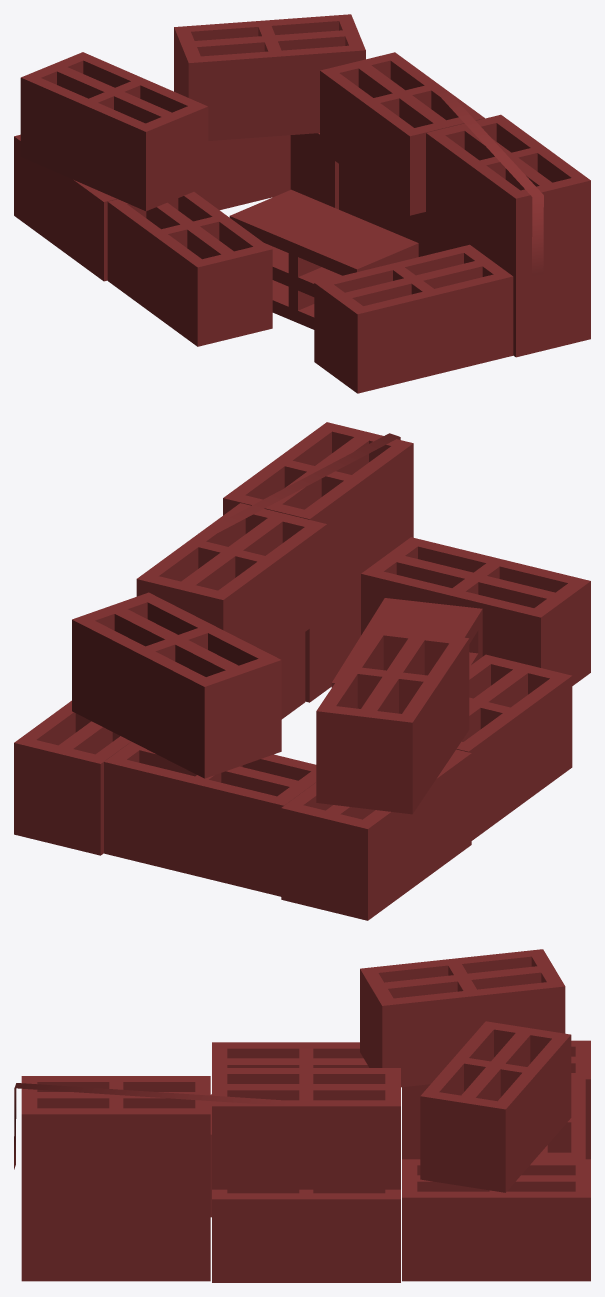
File: SM_Stone01Pack03.fbx
3 renders of one model, top to bottom at view 1: azimuth 30°, elevation 25°; view 2: azimuth 150°, elevation 25°; view 3: azimuth 270°, elevation 25°, orthographic. The views are drawn at different scales.
Parts seen in each view (by area): view 1: Stone01Pack03; view 2: Stone01Pack03; view 3: Stone01Pack03.
Part boxes in pixels (x1,y1,x2,y2): Stone01Pack03: (14, 14, 590, 393); Stone01Pack03: (14, 422, 590, 920); Stone01Pack03: (14, 949, 590, 1282).
Size of the model in its own units: 81.52 by 38.06 by 119.
